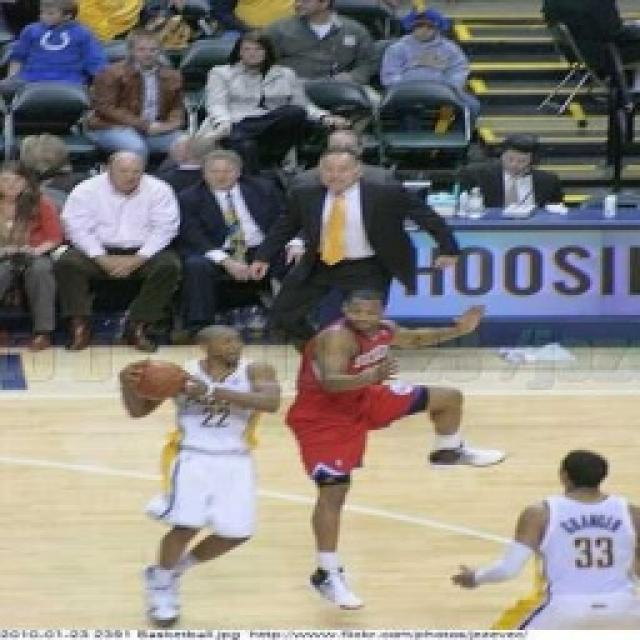rim: (124, 356, 191, 412)
